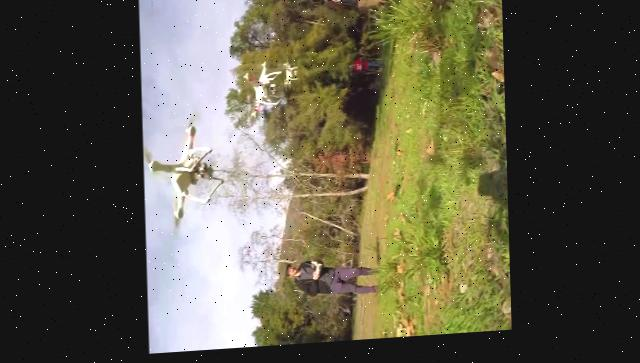drone: (142, 121, 226, 231), (242, 64, 280, 127), (279, 65, 298, 92)
